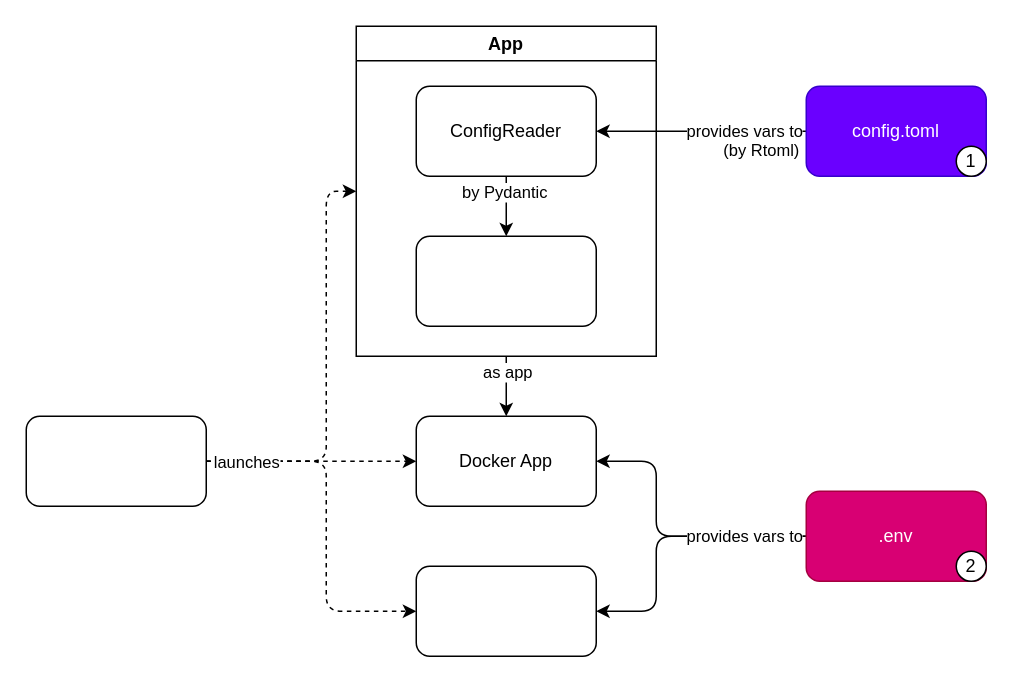
Some shapes in this 1013 by 683 pixel diagram are drawn without their labels. The shapes that lost their labels are listed below. From the top down, each one's centre as x and y in pixels, then its label:
At point (505, 280): "Settings".
At point (115, 460): "Makefile".
At point (505, 610): "Docker DB".
